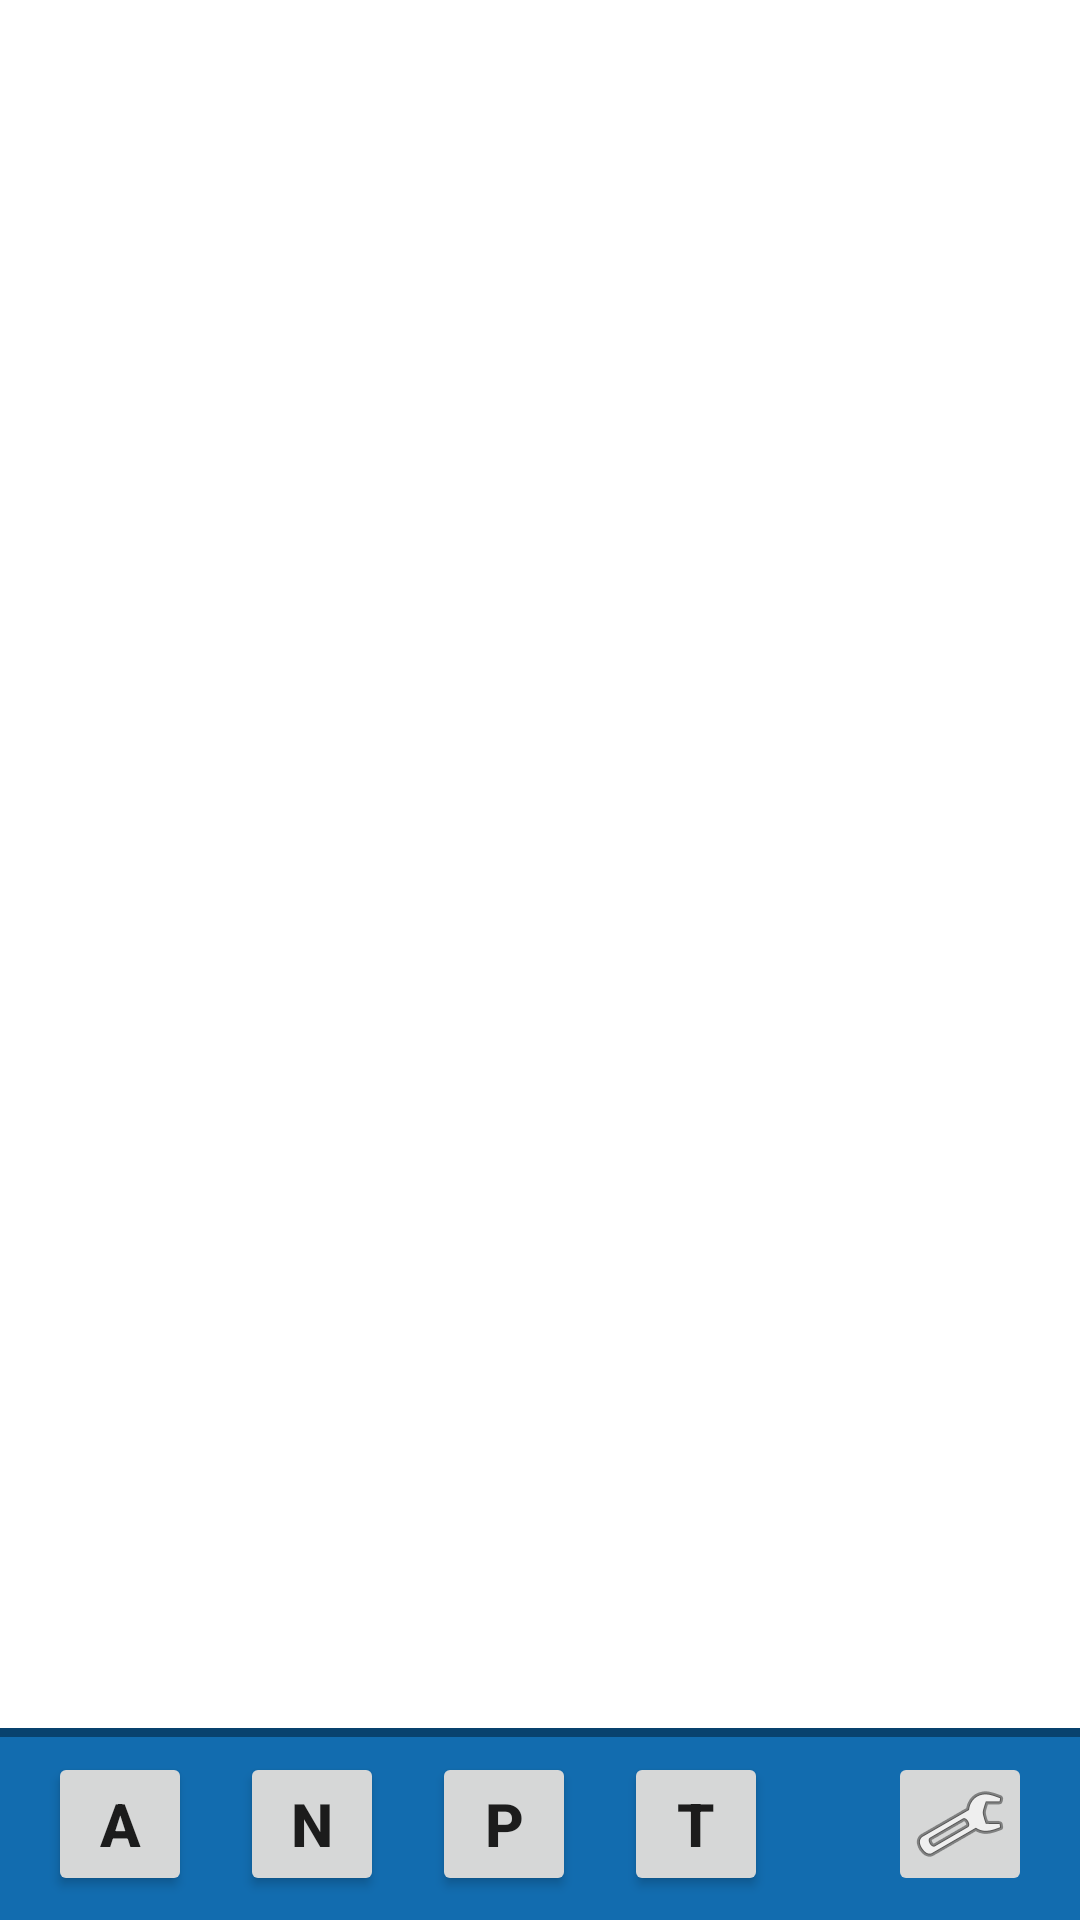

Icon bounding boxes for this 1080px×1920px phone screenshot, format (x1, y1, x2, y2):
settings: (900, 1770, 1020, 1878)
